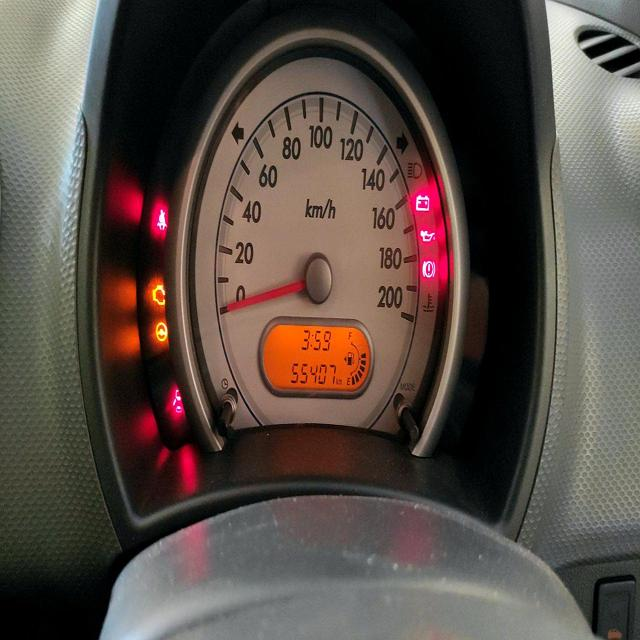odometer: (289, 360, 337, 388)
